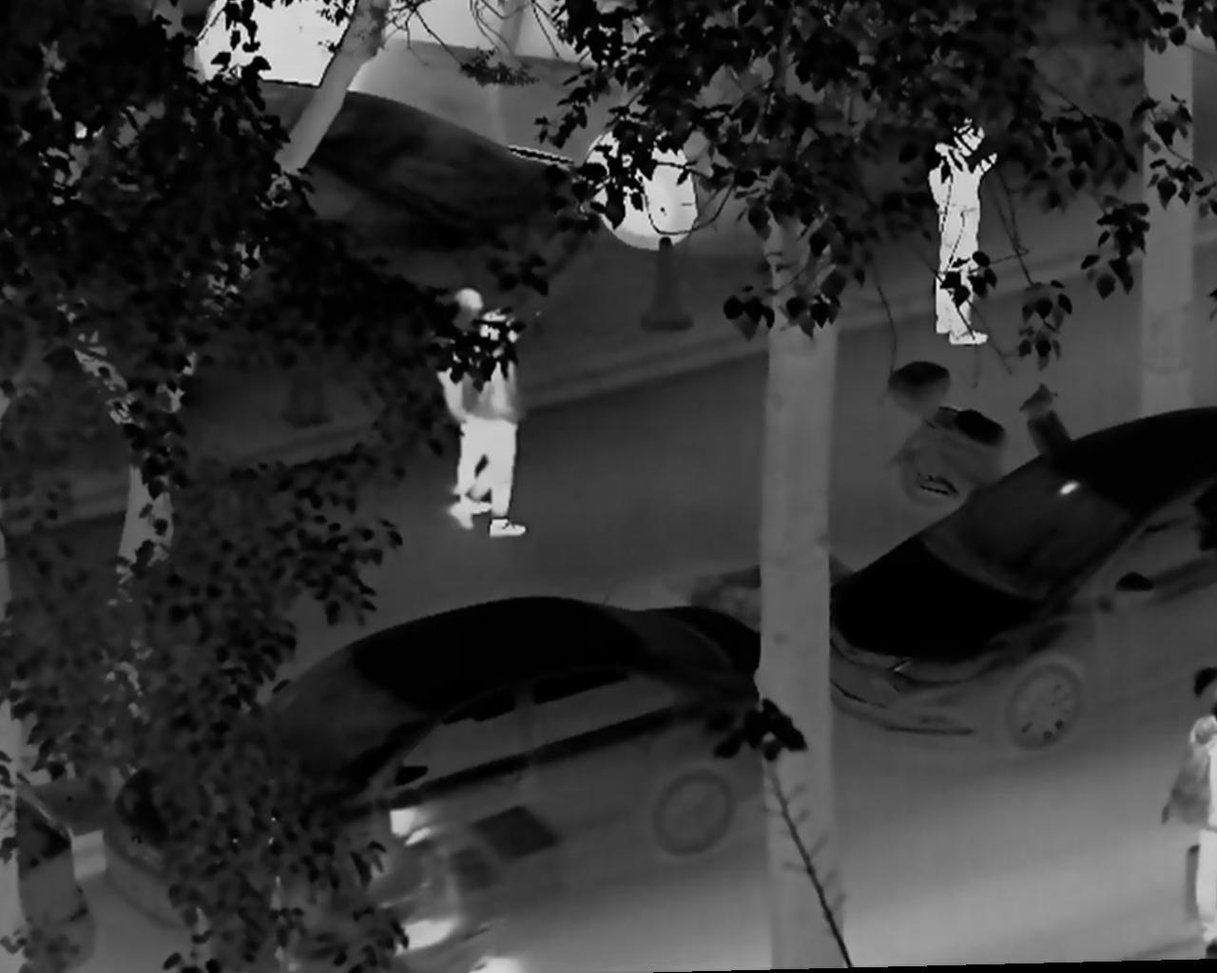person: (353, 785, 473, 963), (918, 115, 1004, 350), (447, 305, 532, 540), (430, 287, 507, 516), (1168, 677, 1217, 952)
